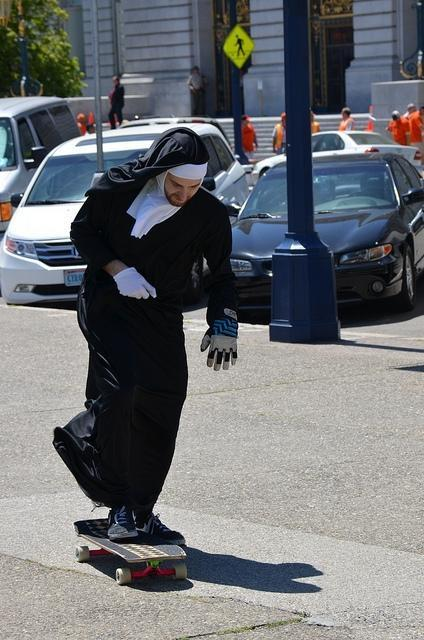car: (2, 114, 253, 304), (229, 154, 424, 318), (246, 130, 424, 198), (1, 98, 84, 230)
